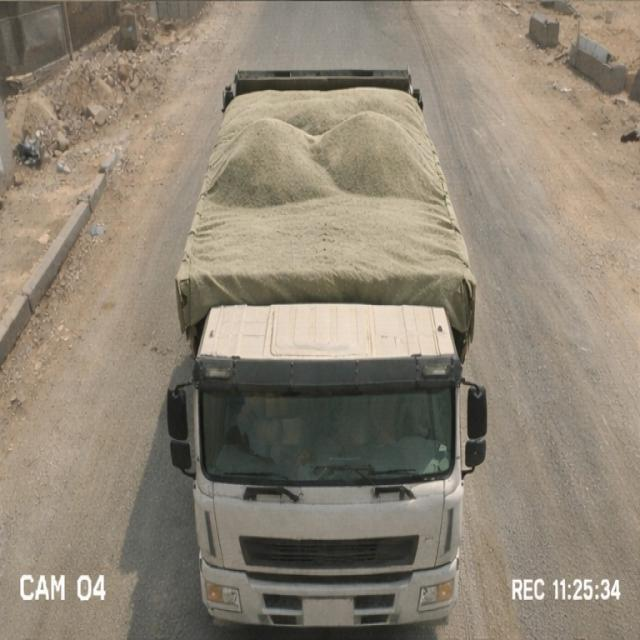Box: (172, 67, 476, 308)
Truck: (162, 47, 494, 635)
